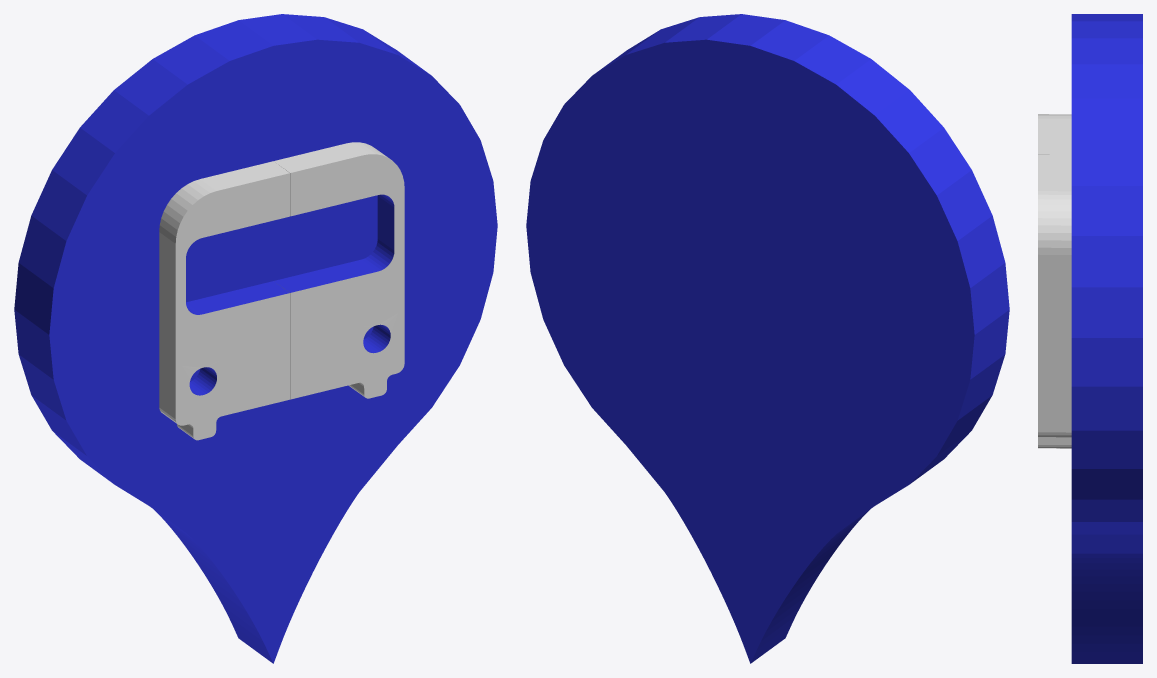
File: signal.glb
3 views of the same model, side by side, from view 1: azimuth 30°, elevation 25°; view 2: azimuth 150°, elevation 25°; view 3: azimuth 270°, elevation 25° (orthographic).
Visible parts, largest first — view 1: Circle.001, Cube.001; view 2: Circle.001; view 3: Circle.001, Cube.001.
Boxes of the visible parts, x1,y1,x2,y2 form: Circle.001: (14,14,497,663); Cube.001: (159,142,404,440); Circle.001: (526,14,1009,663); Circle.001: (1071,14,1142,663); Cube.001: (1038,114,1071,448).
Bounding box in the file's own units: 0.5111 × 0.6733 × 0.1022.
